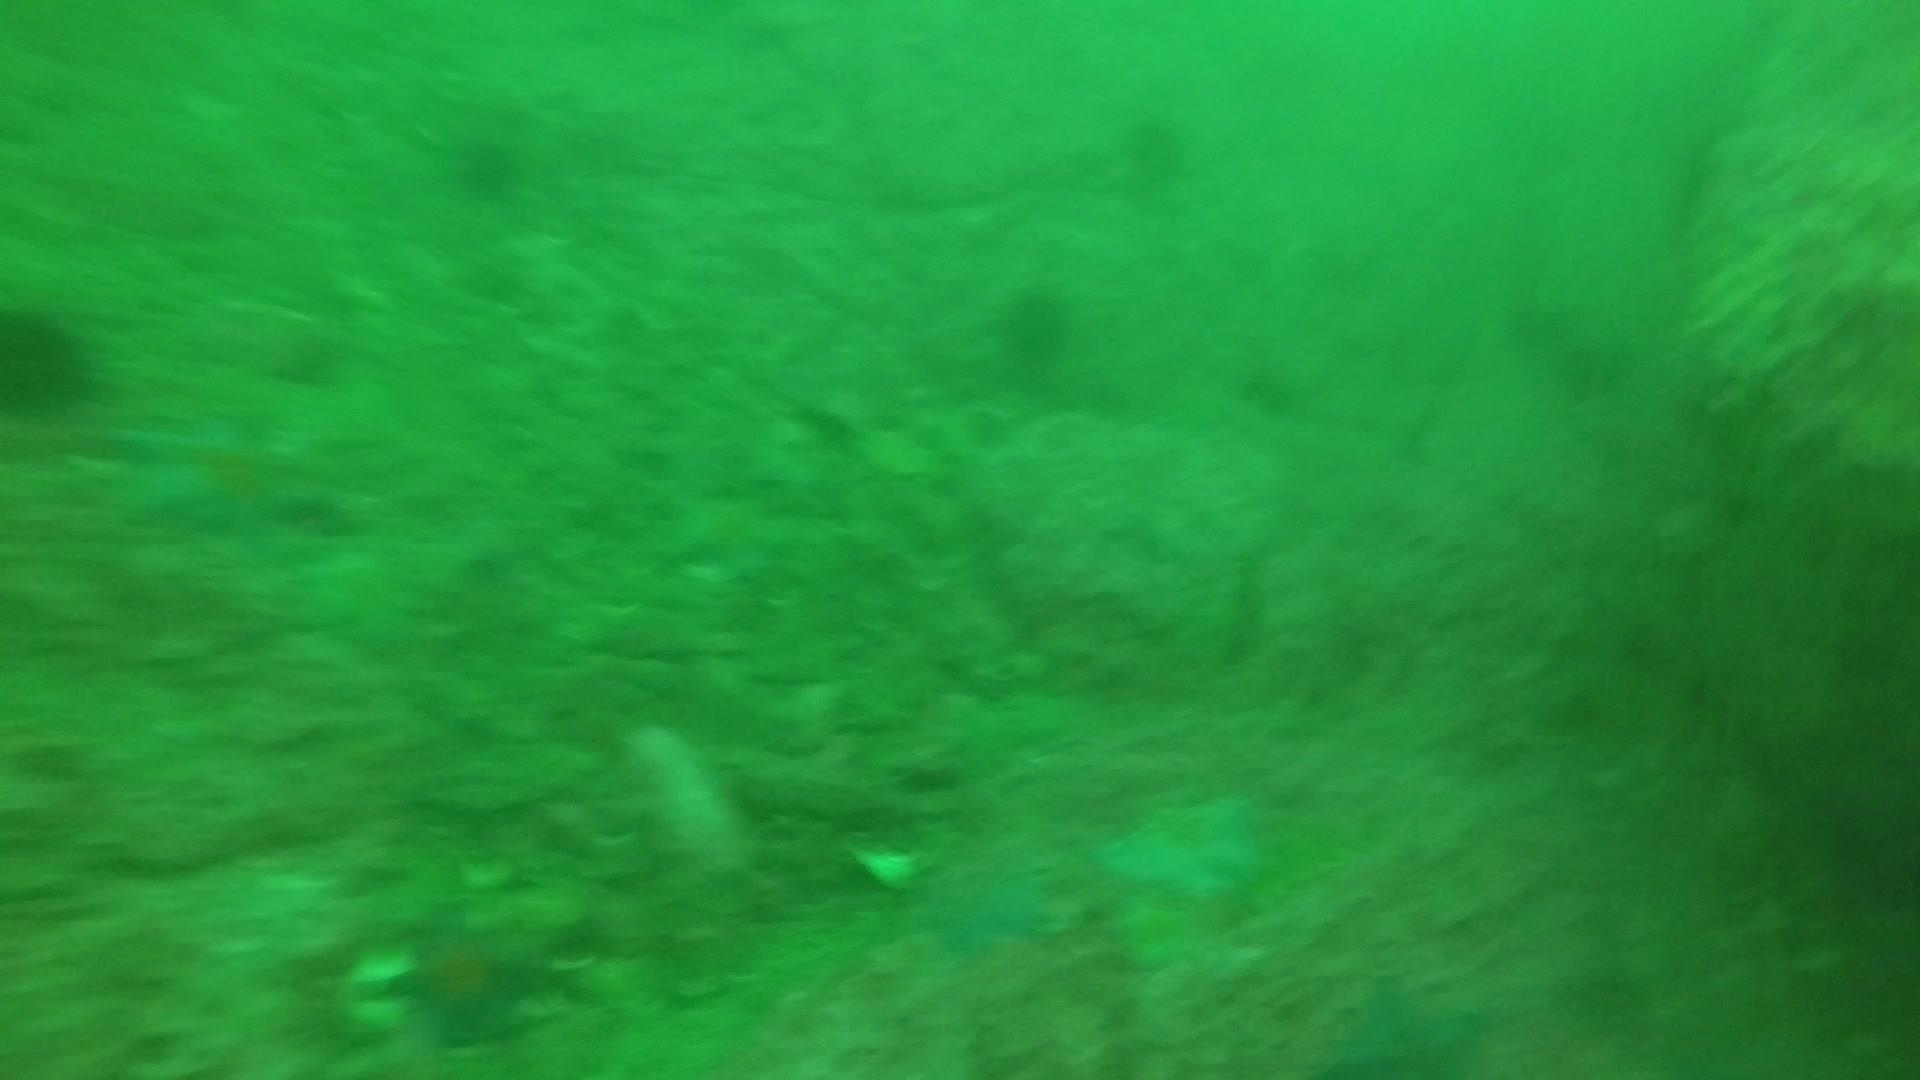echinus: (1, 297, 103, 423), (992, 276, 1083, 371), (1113, 102, 1197, 191), (444, 123, 529, 204)
starfish: (105, 397, 331, 549), (381, 901, 570, 1051), (1089, 782, 1271, 907), (1311, 971, 1493, 1073), (910, 851, 1059, 963), (662, 489, 795, 584)
